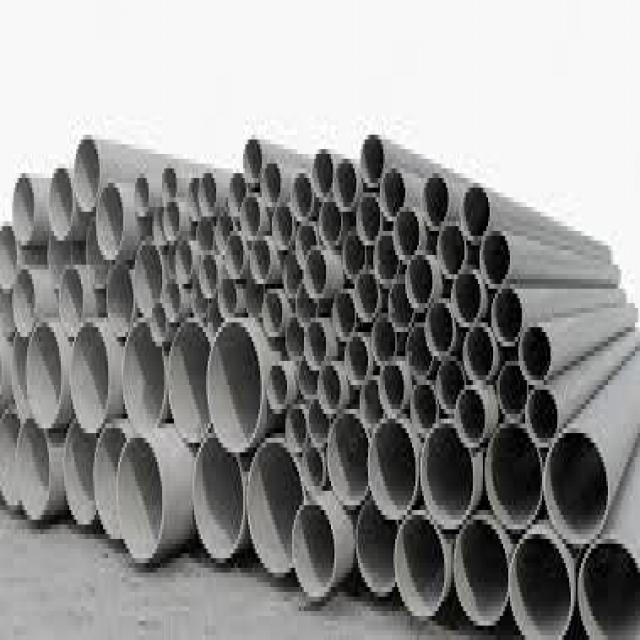pipe: (247, 434, 302, 575), (544, 428, 609, 545), (207, 319, 262, 453), (510, 527, 573, 640), (192, 434, 245, 563), (484, 422, 544, 534), (419, 417, 475, 531), (579, 536, 640, 640), (117, 433, 164, 565), (454, 517, 509, 627), (168, 316, 211, 445), (396, 512, 445, 621), (122, 318, 166, 428), (69, 318, 109, 435), (292, 500, 336, 604), (370, 419, 415, 518), (15, 411, 52, 524), (356, 496, 398, 592), (329, 409, 368, 510), (93, 425, 126, 542), (27, 319, 61, 430), (63, 425, 95, 530), (0, 405, 21, 512), (455, 385, 488, 453), (463, 320, 495, 389), (96, 187, 126, 260), (134, 242, 164, 315), (72, 137, 101, 210), (525, 386, 558, 450), (47, 165, 73, 246), (107, 265, 134, 341), (451, 266, 483, 329), (519, 324, 552, 385), (85, 216, 111, 293), (426, 295, 457, 359), (459, 182, 491, 242), (492, 282, 522, 345), (10, 174, 35, 248), (481, 226, 509, 292), (436, 356, 465, 419), (420, 171, 452, 228), (437, 221, 466, 283), (405, 321, 433, 385), (394, 203, 421, 268), (497, 362, 528, 418), (60, 267, 84, 339), (379, 166, 406, 228), (407, 251, 434, 312), (380, 356, 406, 419), (410, 384, 439, 439), (12, 270, 35, 338), (357, 190, 383, 247), (360, 131, 385, 190), (304, 242, 327, 306), (387, 276, 413, 332), (345, 332, 370, 390), (374, 227, 398, 287), (331, 287, 356, 344), (285, 397, 309, 456), (371, 313, 398, 364), (333, 157, 357, 214), (355, 270, 380, 324), (342, 226, 366, 282), (318, 197, 343, 250), (301, 442, 325, 497), (12, 335, 28, 417), (318, 359, 340, 418), (261, 159, 284, 213), (242, 133, 264, 189), (266, 360, 288, 416), (248, 232, 271, 284), (240, 188, 262, 242), (262, 288, 284, 342), (272, 199, 294, 253), (312, 148, 334, 201), (304, 318, 326, 371), (291, 171, 314, 221), (308, 397, 330, 448), (1, 221, 17, 291), (199, 249, 220, 302), (162, 273, 183, 324), (284, 313, 305, 363), (225, 229, 245, 281), (197, 168, 217, 219), (283, 248, 303, 299), (295, 221, 317, 266), (213, 206, 233, 255), (229, 171, 247, 225), (175, 235, 193, 288), (295, 359, 318, 399), (217, 276, 236, 321), (186, 173, 201, 228), (195, 216, 214, 259), (163, 198, 180, 243), (133, 173, 149, 218), (161, 163, 178, 204)
